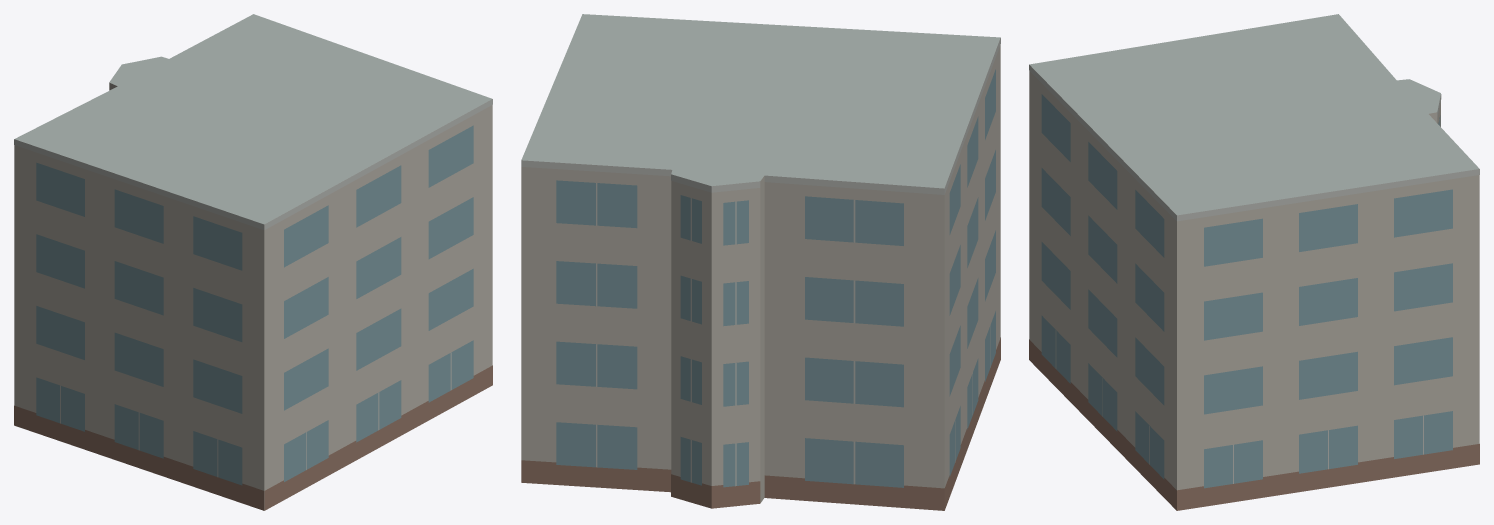
File: survey-upis-32930617.glb
The picture shows the model from 3 angles, left to right: view 1: azimuth 30°, elevation 25°; view 2: azimuth 150°, elevation 25°; view 3: azimuth 270°, elevation 25°; orthographic projection. The views are drawn at different scales.
Parts seen in each view (by area): view 1: survey-upis-32930617.tmp; view 2: survey-upis-32930617.tmp; view 3: survey-upis-32930617.tmp.
Boxes of the visible parts, x1=… form: survey-upis-32930617.tmp: x1=14, y1=14, x2=492, y2=510; survey-upis-32930617.tmp: x1=521, y1=14, x2=1000, y2=510; survey-upis-32930617.tmp: x1=1029, y1=14, x2=1479, y2=510.
Size of the model in its own units: 17.67 by 12.08 by 16.71.
